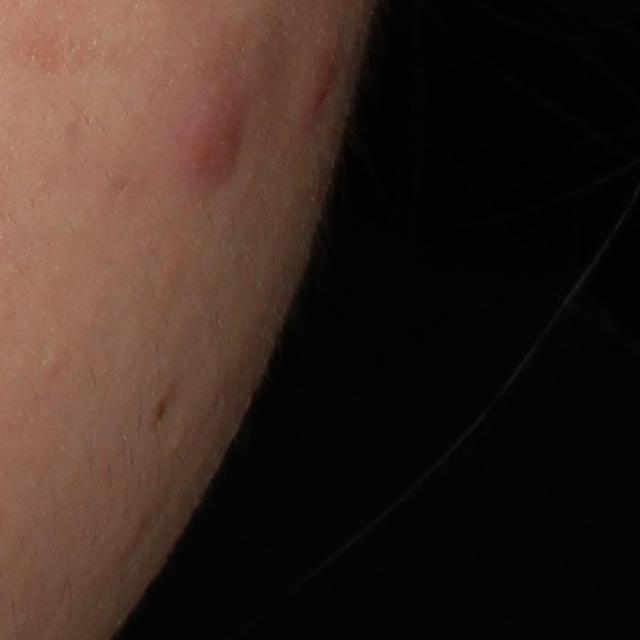nevus: (146, 385, 179, 430)
papule: (294, 63, 336, 125)
